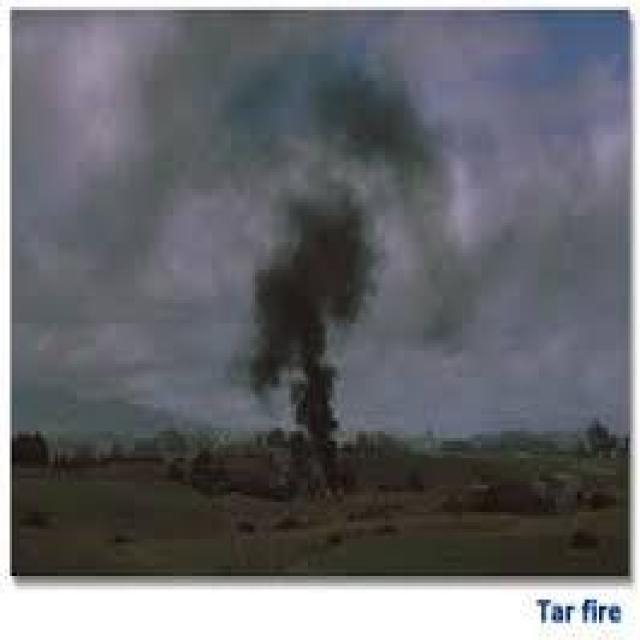Smoke: (237, 80, 427, 464)
